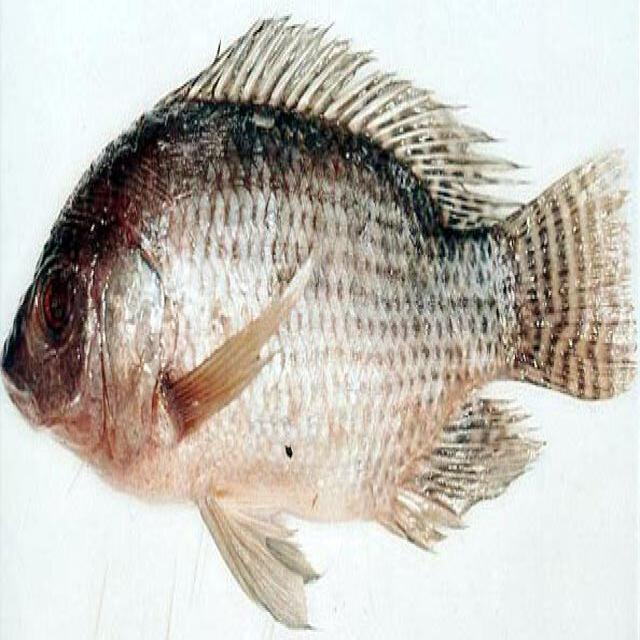ikan: (12, 26, 629, 625)
